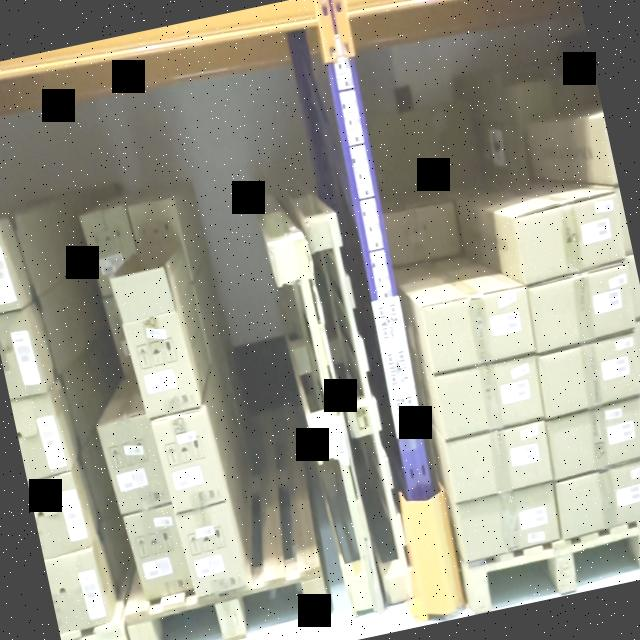box: (418, 288, 538, 376), (430, 359, 547, 442), (122, 301, 202, 419), (535, 334, 640, 418), (518, 203, 627, 281), (444, 424, 554, 501), (454, 482, 564, 556), (528, 270, 636, 344), (98, 411, 171, 519), (546, 393, 640, 476), (153, 408, 226, 513), (123, 498, 192, 600), (176, 500, 247, 595), (556, 463, 640, 535)
